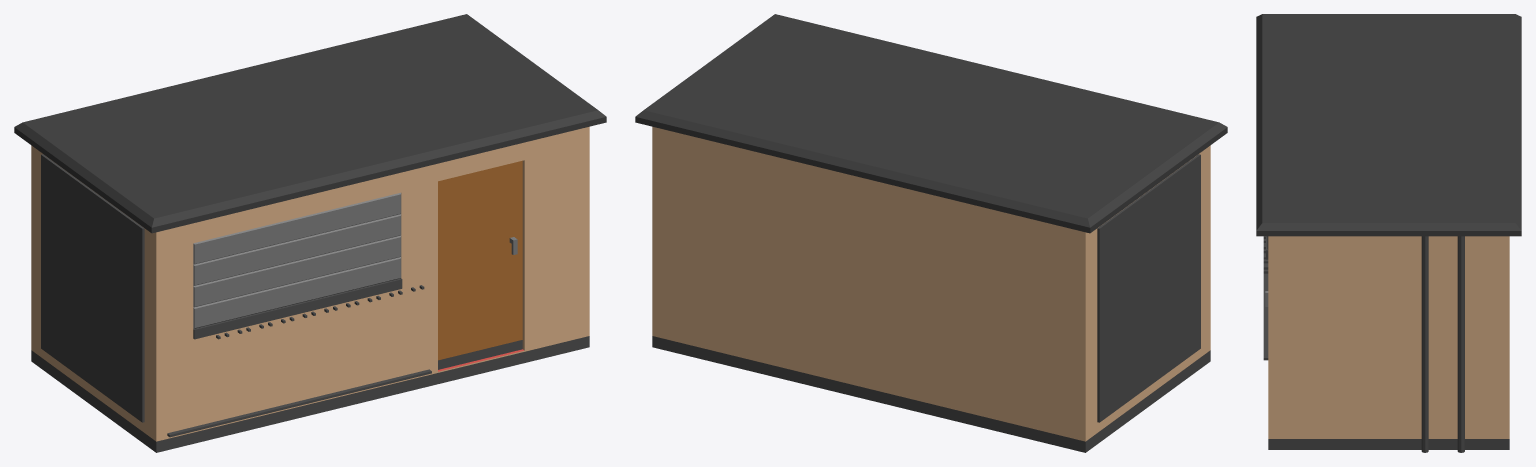
Rendered from Store.fbx.
The picture shows the model from 3 angles, left to right: view 1: azimuth 30°, elevation 25°; view 2: azimuth 150°, elevation 25°; view 3: azimuth 270°, elevation 25°; orthographic projection. The views are drawn at different scales.
Parts seen in each view (by area): view 1: Store, Cover, Door; view 2: Store; view 3: Store.
Boxes of the visible parts, x1,y1,x2,y2 form: Store: (14, 14, 606, 452); Cover: (193, 192, 402, 339); Door: (438, 160, 522, 369); Store: (635, 14, 1227, 452); Store: (1256, 14, 1521, 452).
Bounding box in the file's own units: 420 × 210 × 220.
